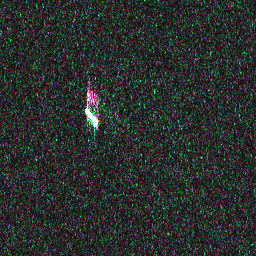ship: (82, 106, 102, 129)
